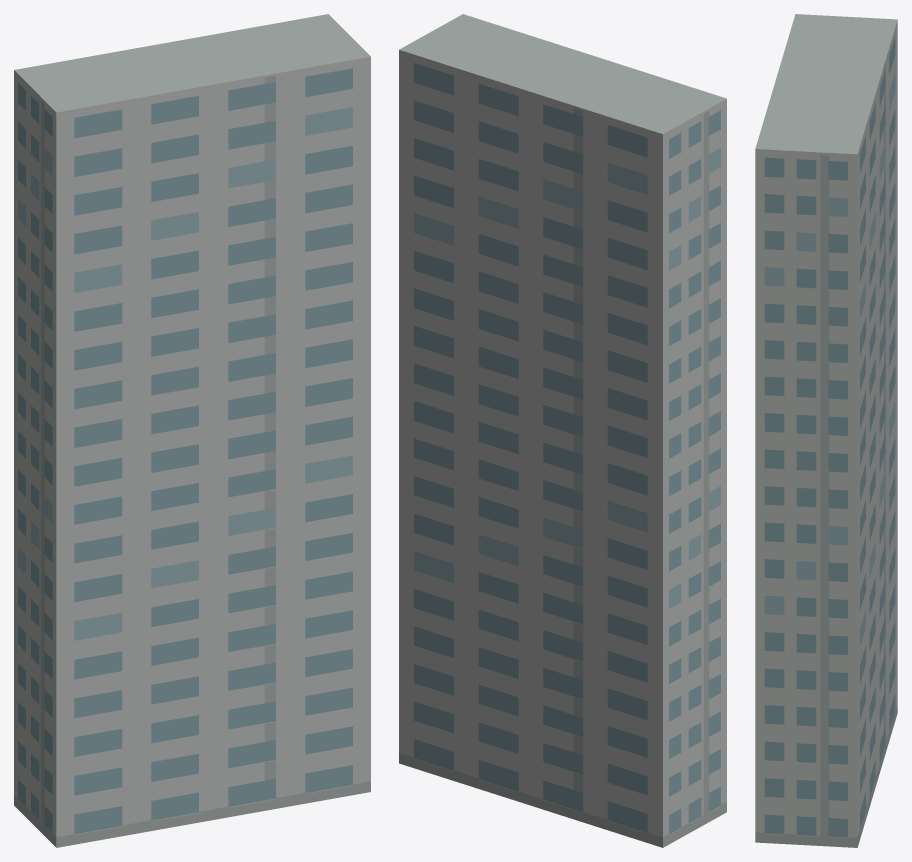
Rendered from residential-db442dff-3ba7-41d0-9f36-2b2ad963c857.glb.
The picture shows the model from 3 angles, left to right: view 1: azimuth 30°, elevation 25°; view 2: azimuth 150°, elevation 25°; view 3: azimuth 270°, elevation 25°; orthographic projection. The views are drawn at different scales.
Parts seen in each view (by area): view 1: residential-db442dff-3ba7-41d0-9f36-2b2ad963c857.tmp; view 2: residential-db442dff-3ba7-41d0-9f36-2b2ad963c857.tmp; view 3: residential-db442dff-3ba7-41d0-9f36-2b2ad963c857.tmp.
Boxes of the visible parts, x1,y1,x2,y2 form: residential-db442dff-3ba7-41d0-9f36-2b2ad963c857.tmp: [14, 14, 370, 847]; residential-db442dff-3ba7-41d0-9f36-2b2ad963c857.tmp: [399, 14, 726, 847]; residential-db442dff-3ba7-41d0-9f36-2b2ad963c857.tmp: [755, 14, 897, 847].
Bounding box in the file's own units: 34.29 × 79 × 14.71.
